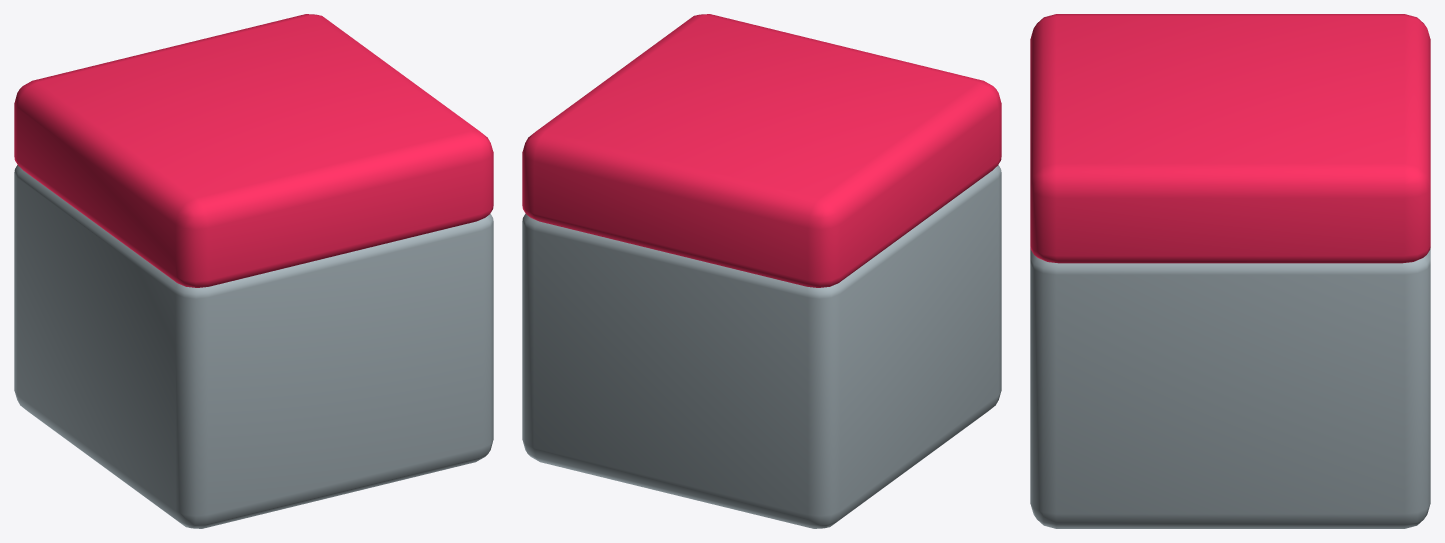
Rendered from tileHigh_teamRed-col.glb.
The picture shows the model from 3 angles, left to right: view 1: azimuth 30°, elevation 25°; view 2: azimuth 150°, elevation 25°; view 3: azimuth 270°, elevation 25°; orthographic projection. The views are drawn at different scales.
Parts seen in each view (by area): view 1: tileHigh_teamRed-col; view 2: tileHigh_teamRed-col; view 3: tileHigh_teamRed-col.
Boxes of the visible parts, box(x1,y1,x2,y2) form: tileHigh_teamRed-col: box(14, 14, 493, 528); tileHigh_teamRed-col: box(522, 14, 1001, 528); tileHigh_teamRed-col: box(1030, 14, 1430, 528).
Size of the model in its own units: 2 by 2 by 2.
